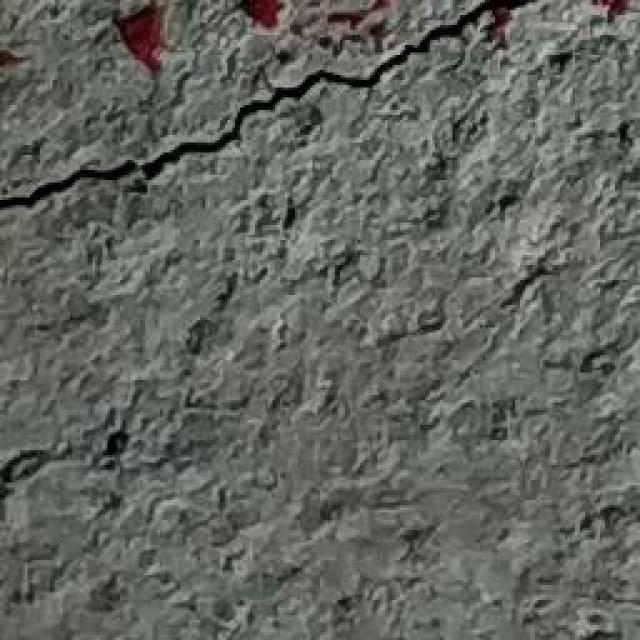Diagonal: (0, 0, 502, 207)
Rippled: (0, 245, 640, 639)
